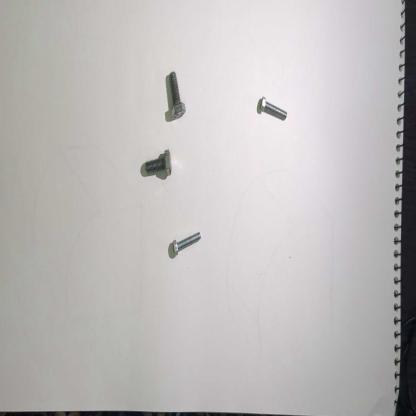Bolts: (162, 69, 189, 123), (168, 224, 203, 263), (143, 146, 175, 186), (257, 94, 290, 127)
